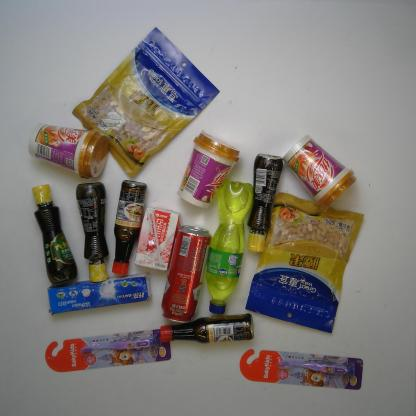Alcohol: (161, 225, 212, 323)
Dried Fruit: (71, 27, 221, 180), (245, 192, 365, 333)
Drink: (206, 180, 253, 313)
Instant Drink: (282, 136, 356, 210), (178, 130, 240, 209), (28, 124, 110, 179)
Milk: (134, 208, 180, 272)
Personal Hygiene: (46, 328, 171, 373), (239, 348, 363, 390), (47, 272, 150, 316)
Seasoner: (32, 184, 77, 285), (247, 154, 283, 254), (110, 181, 148, 275), (76, 182, 111, 284), (160, 314, 254, 344)
